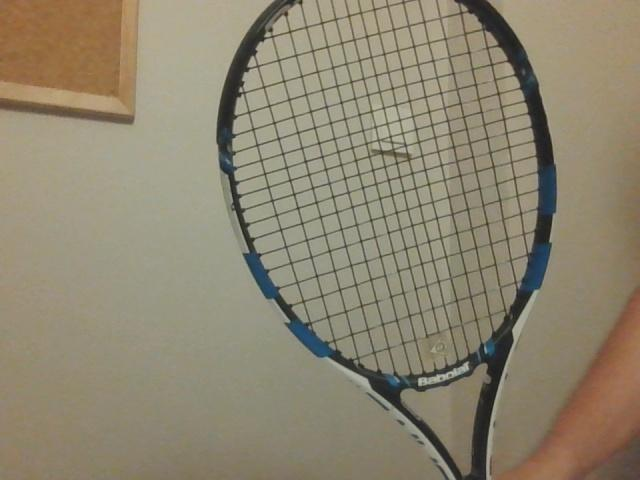Tennis-Racket: (218, 0, 560, 480)
